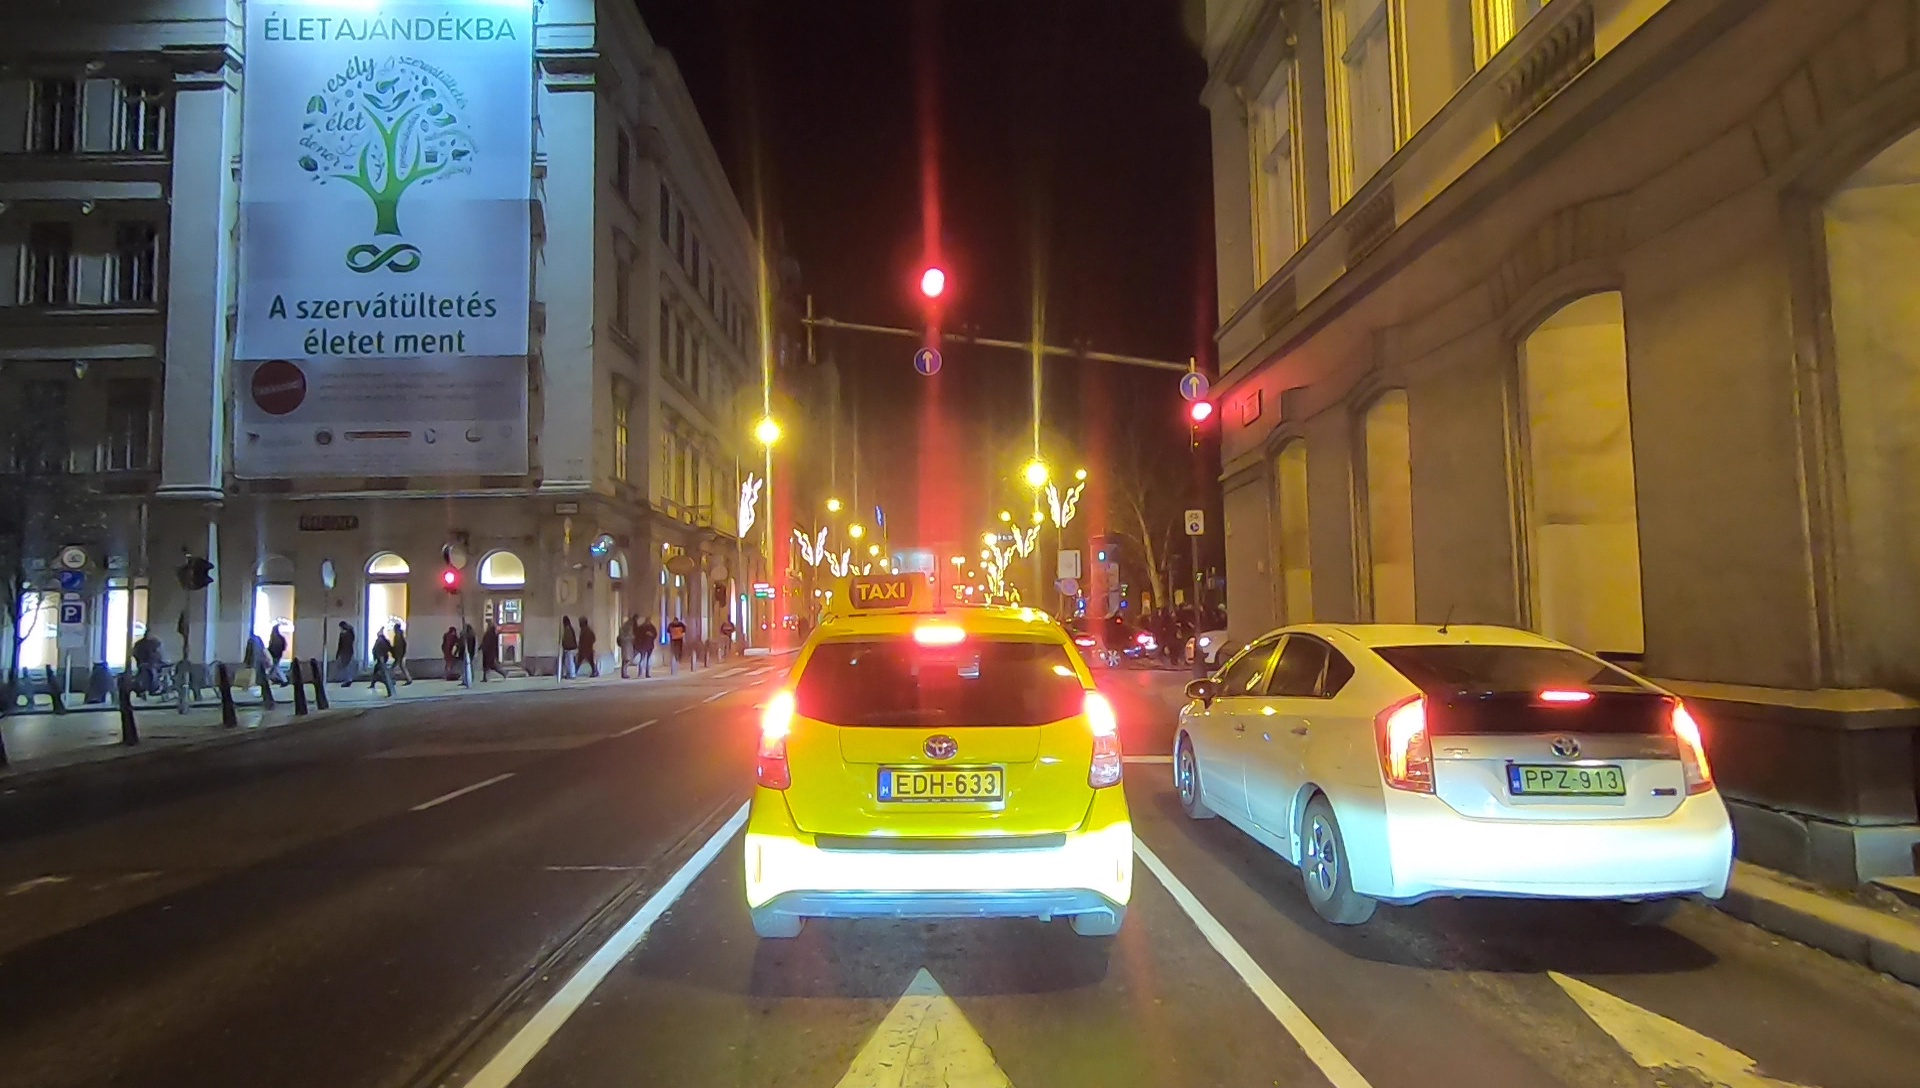person: (128, 626, 165, 700), (326, 617, 354, 689), (480, 623, 506, 687), (576, 619, 601, 684), (634, 617, 658, 680), (243, 630, 267, 693), (371, 623, 391, 689), (391, 623, 412, 689), (271, 624, 289, 691), (560, 617, 580, 674), (617, 623, 638, 674), (665, 617, 686, 665), (443, 630, 462, 674)
